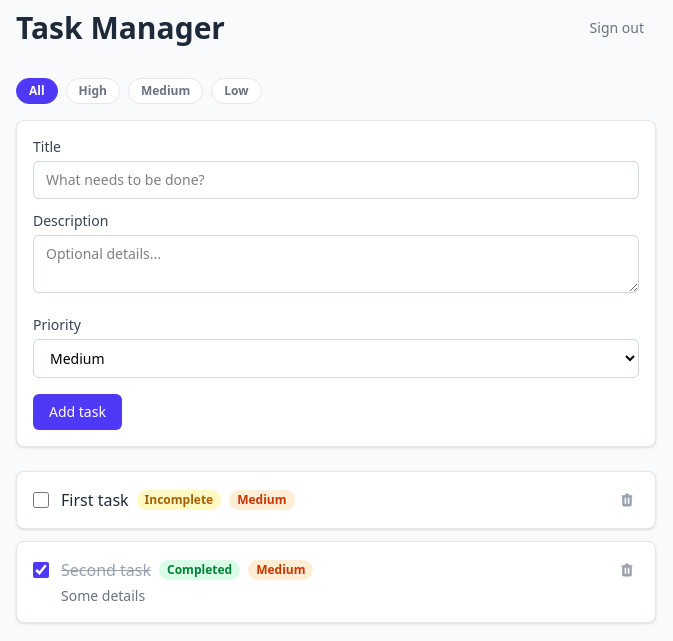
it: App › flips the completed badge when checkbox is toggled (optimistic)
Expected: the text "First task" is shown, [61,488,129,512]
Expected: the text "Incomplete" is shown, [137,490,221,510]
Step 1. Click the checkbox next to "First task" → (41, 500), box [33,492,49,508]
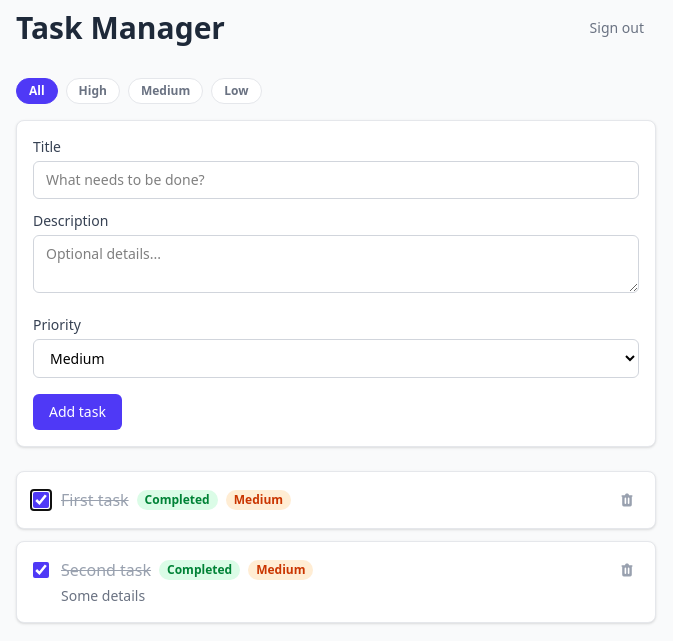
Expected: the text "Completed" next to "First task" is shown, [145,491,210,508]
